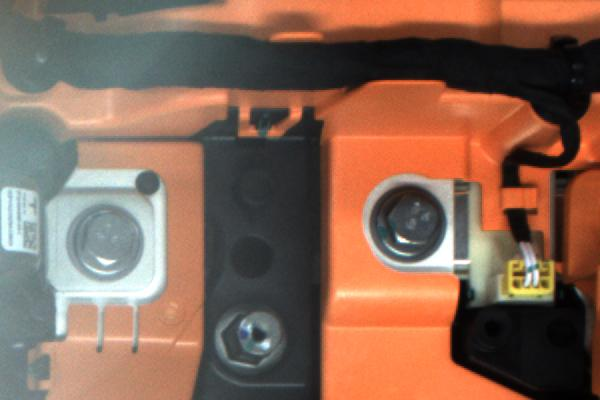nut_b: (355, 179, 456, 261), (62, 197, 153, 279)
